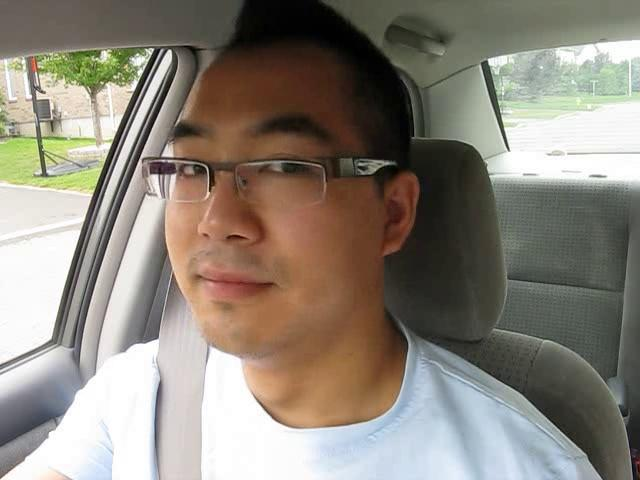no_yawn: (175, 249, 292, 320)
open_eyeL: (156, 143, 221, 197)
open_eyeR: (243, 142, 332, 200)
